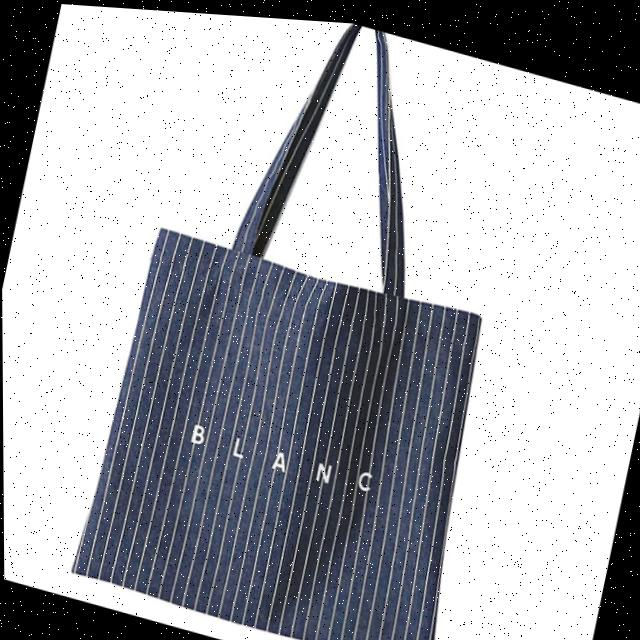ecobag: (45, 2, 572, 640)
